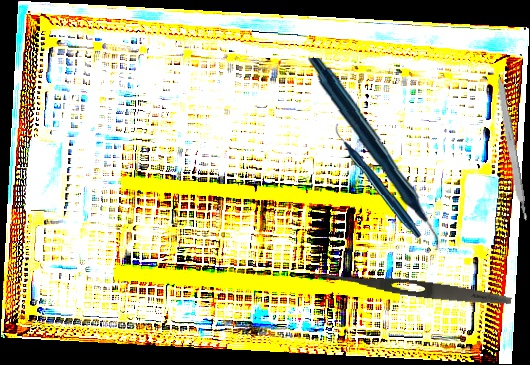Dressing Forceps: (312, 267, 513, 310)
Handpiece: (300, 57, 447, 251), (334, 120, 423, 241)
Scalpel Handle: (492, 72, 530, 224)
